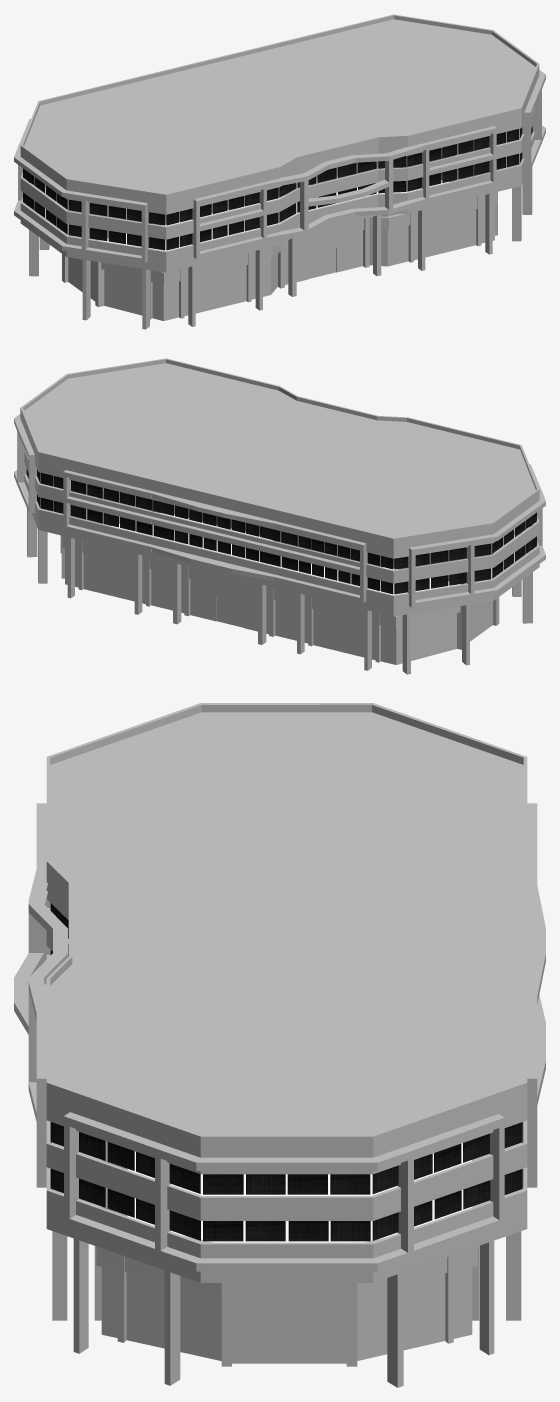
The picture shows the model from 3 angles, top to bottom: view 1: azimuth 30°, elevation 25°; view 2: azimuth 150°, elevation 25°; view 3: azimuth 270°, elevation 25°; orthographic projection. The views are drawn at different scales.
Visible parts, largest first — view 1: BB-076; view 2: BB-076; view 3: BB-076.
Part boxes in pixels (<box>): BB-076: <box>14,14,545,329</box>; BB-076: <box>14,358,545,674</box>; BB-076: <box>14,703,545,1387</box>.
Size of what is drawn, in the model's own units: 61.06 by 16.89 by 30.95.
